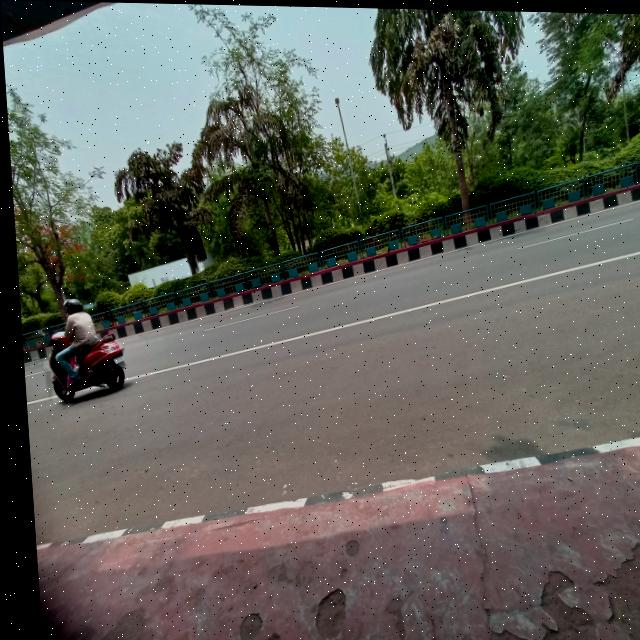bike: (42, 331, 128, 404)
